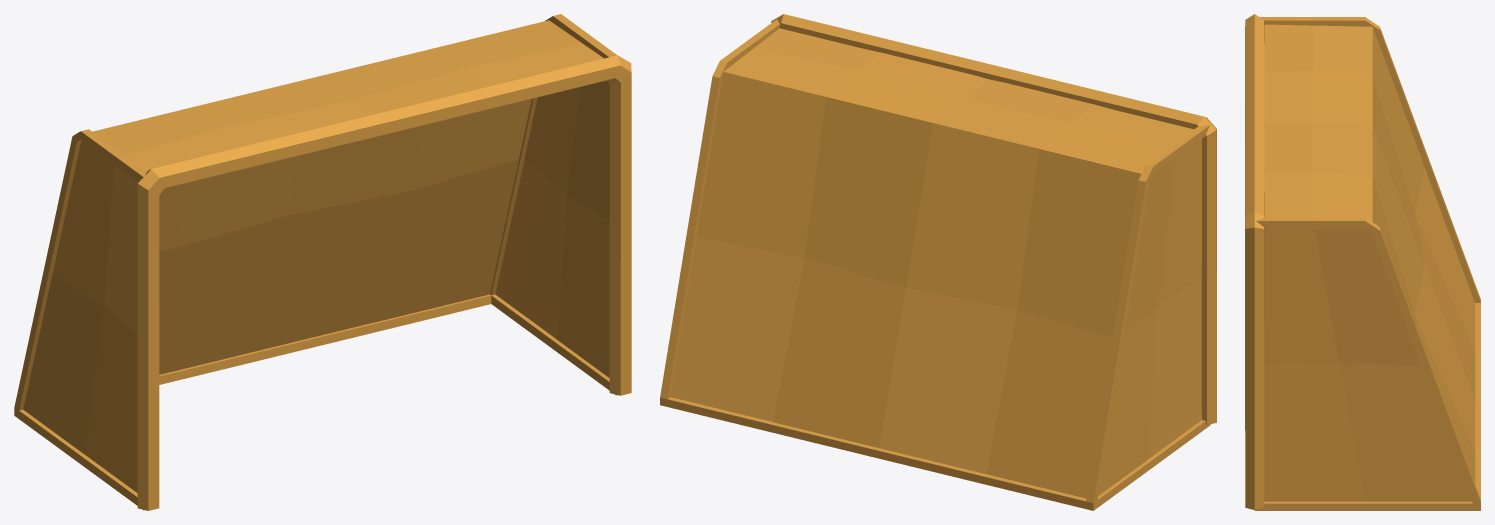
Rendered from soccer-gate.glb.
3 renders of one model, left to right at view 1: azimuth 30°, elevation 25°; view 2: azimuth 150°, elevation 25°; view 3: azimuth 270°, elevation 25°, orthographic. The views are drawn at different scales.
Visible parts, largest first — view 1: soccer-gate; view 2: soccer-gate; view 3: soccer-gate.
Boxes of the visible parts, box(x1,y1,x2,y2) form: soccer-gate: box(14, 14, 631, 510); soccer-gate: box(660, 14, 1216, 510); soccer-gate: box(1245, 14, 1480, 510).
Bounding box in the file's own units: 3.34 × 2.2 × 1.59.
